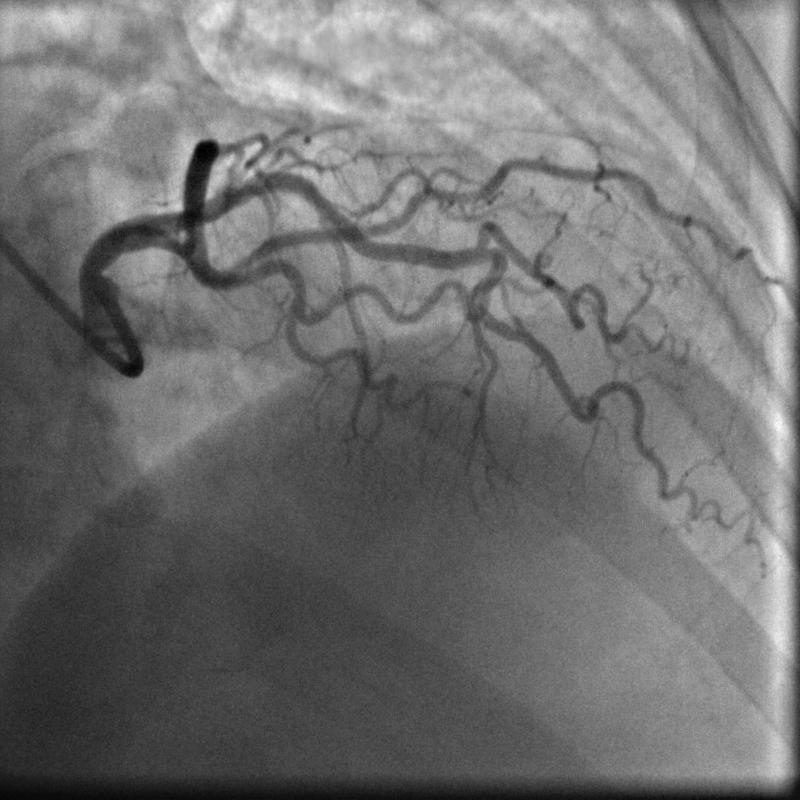Stenosis: (172, 216, 196, 253)
